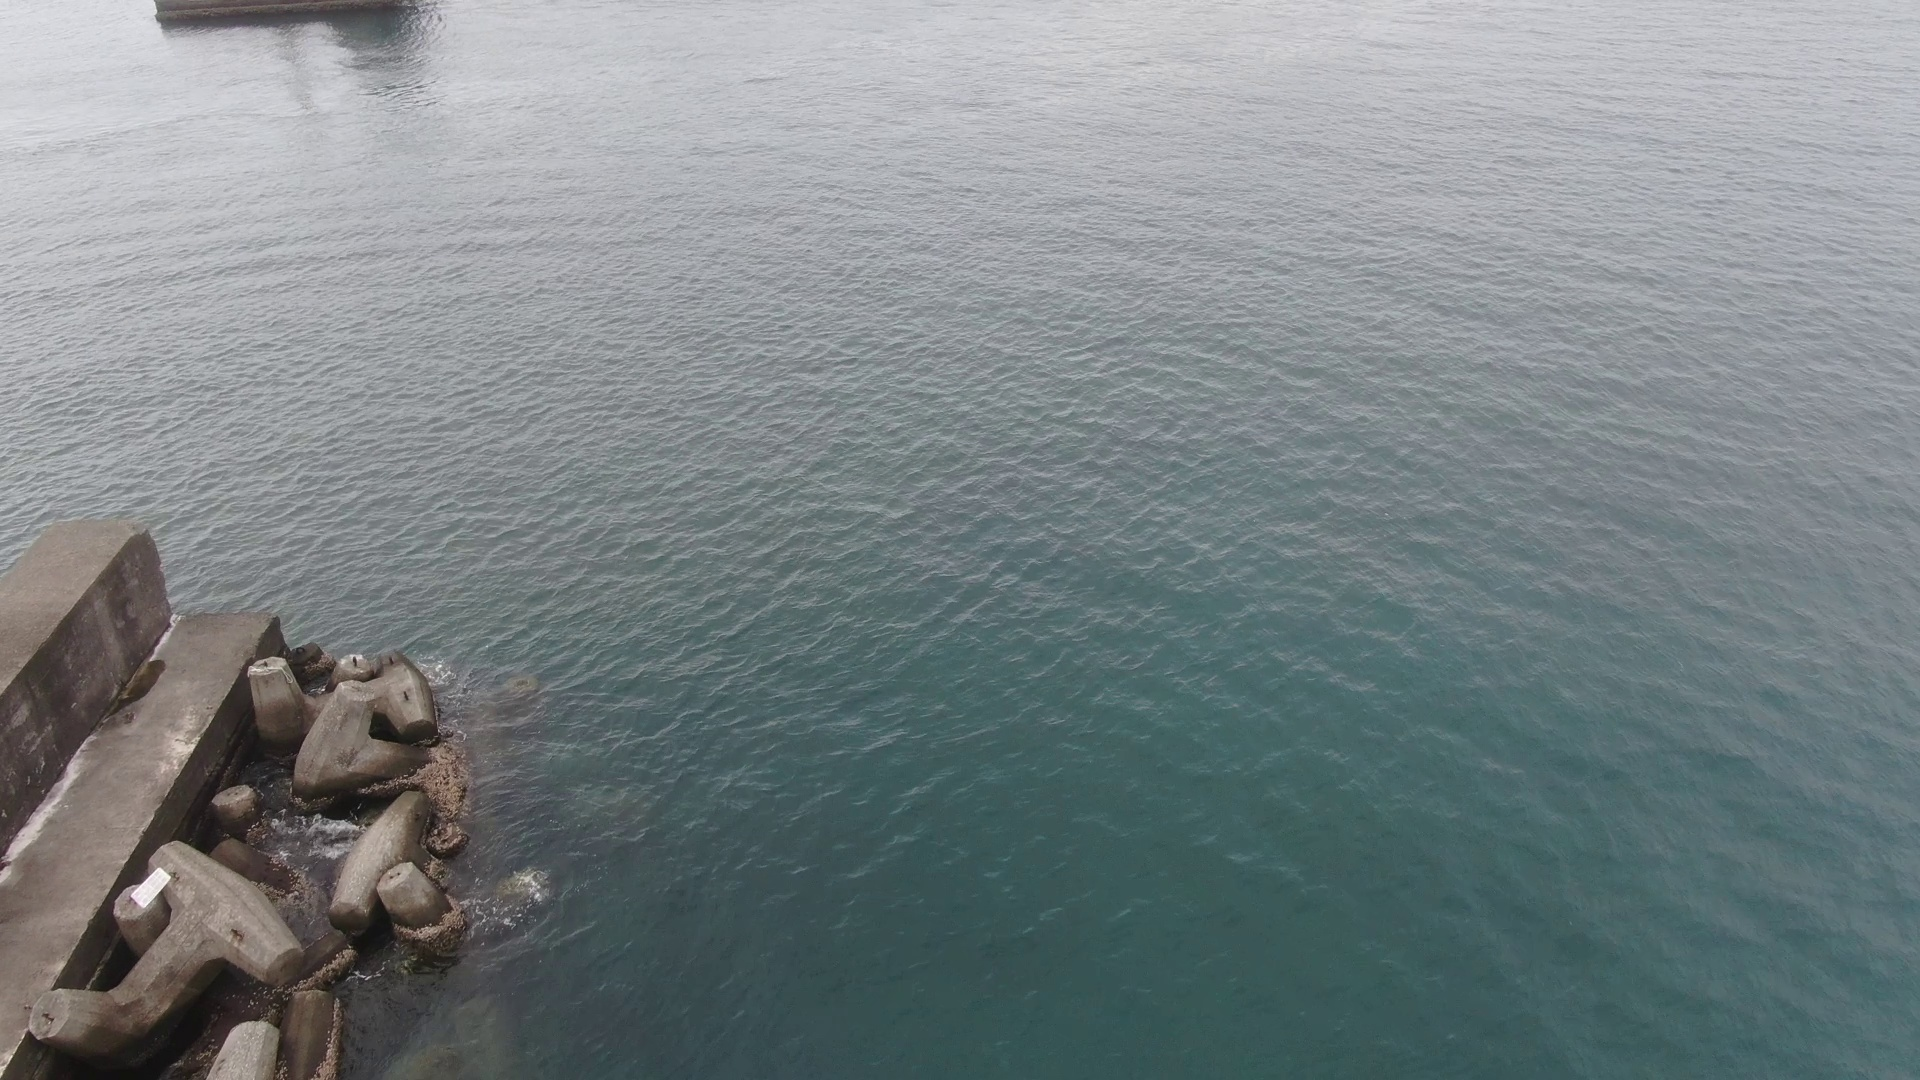garbage: (127, 865, 173, 913)
